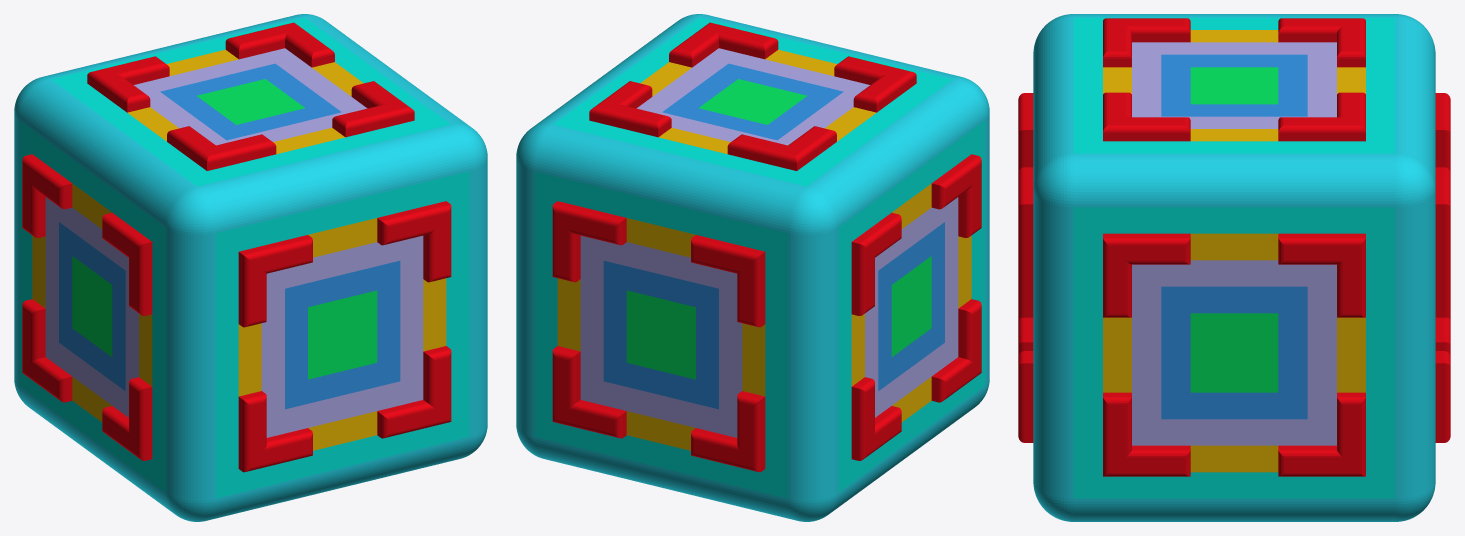
The model's file is bomb.fbx.
3 renders of one model, left to right at view 1: azimuth 30°, elevation 25°; view 2: azimuth 150°, elevation 25°; view 3: azimuth 270°, elevation 25°, orthographic. The views are drawn at different scales.
Parts seen in each view (by area): view 1: Cube; view 2: Cube; view 3: Cube.
Part boxes in pixels (box(x1,y1,x2,y2)): Cube: box(14, 14, 487, 521); Cube: box(516, 14, 989, 521); Cube: box(1018, 14, 1450, 521).
Size of the model in its own units: 430 by 430 by 430.
